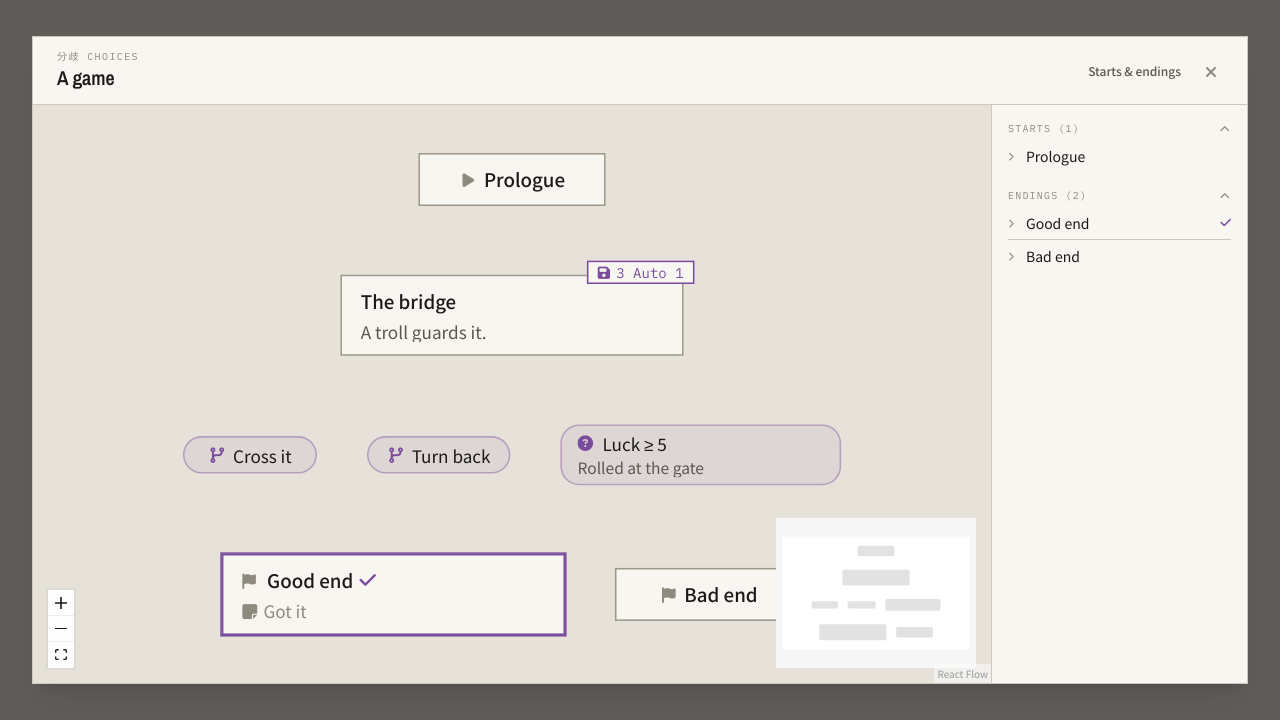
Scenario: ChoiceGraphModal › draws the branches as pills, not blocks, and badges only blocks with saves
This screenshot has width=1280, height=720.
Expected: the element with test id "save-badge" reads "3 Auto 1", [616,264,684,281]
Click the element with test id "^choice-node-": point(512, 315) [340,275,684,356]
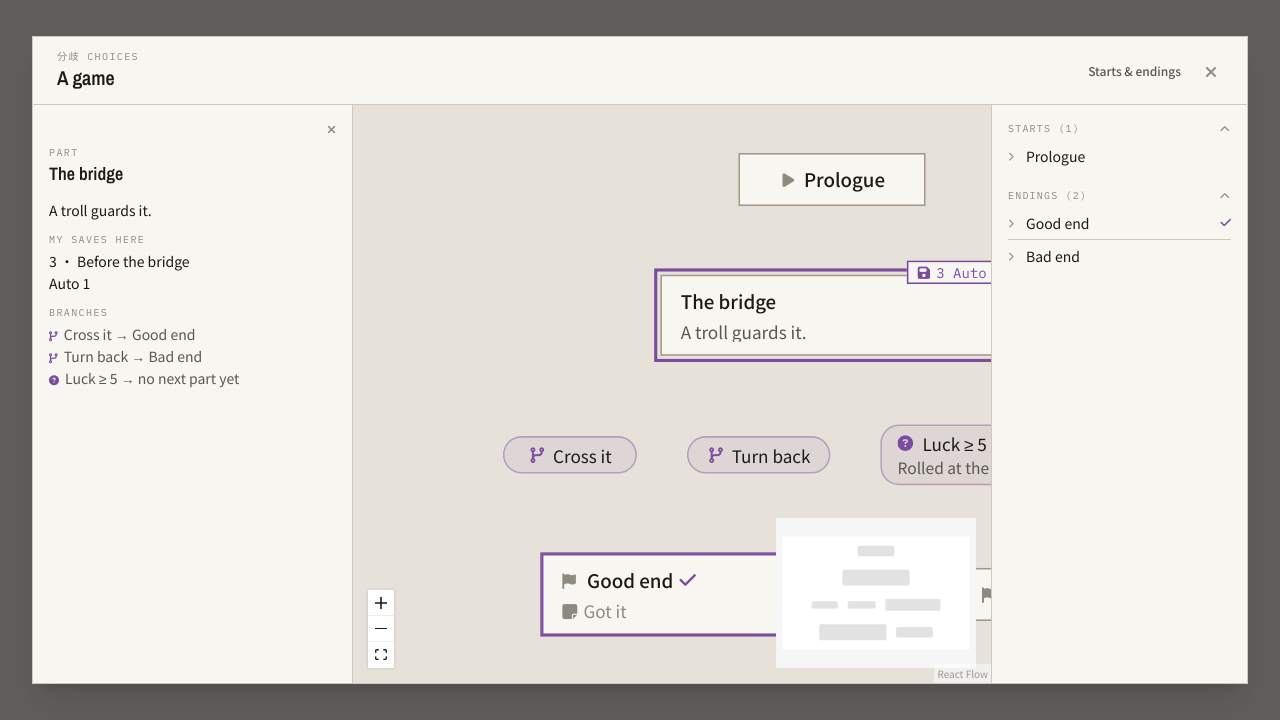
Expected: the list item "3 · Before the bridge" is shown, [49,251,190,271]
Expected: the list item "Auto 1" is shown, [49,273,90,293]
